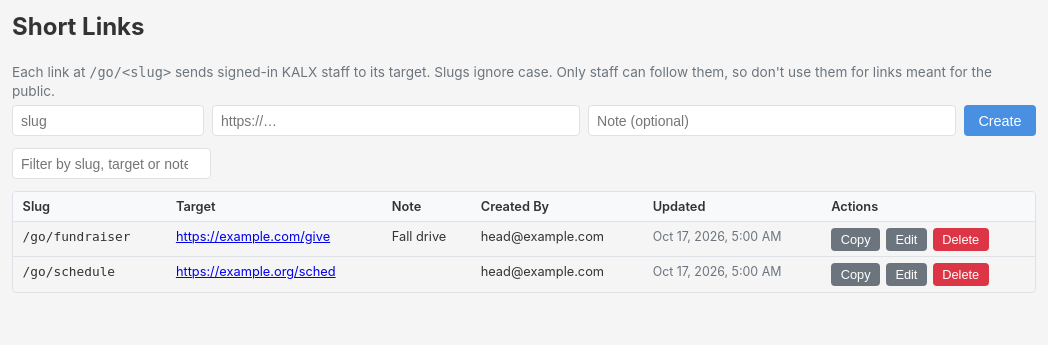
Test case: ShortLinksSection › creates a link and adds it in slug order
Type "Party" into the field labelled "slug".
click(108, 121); type("Party")  # box [12,106,204,136]
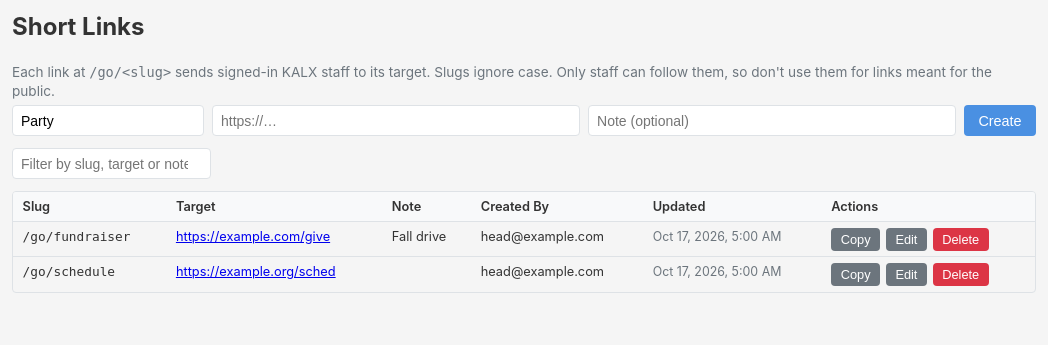
Type "https://example.net/" into the field named "Target URL".
click(396, 121); type("https://example.net/")  # box [212,106,580,136]
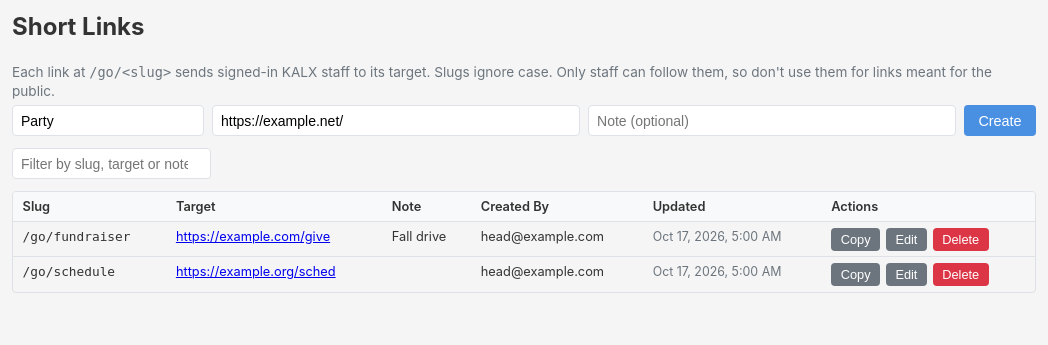
Click the button "Create".
click(1000, 121)  # box [964,106,1036,136]
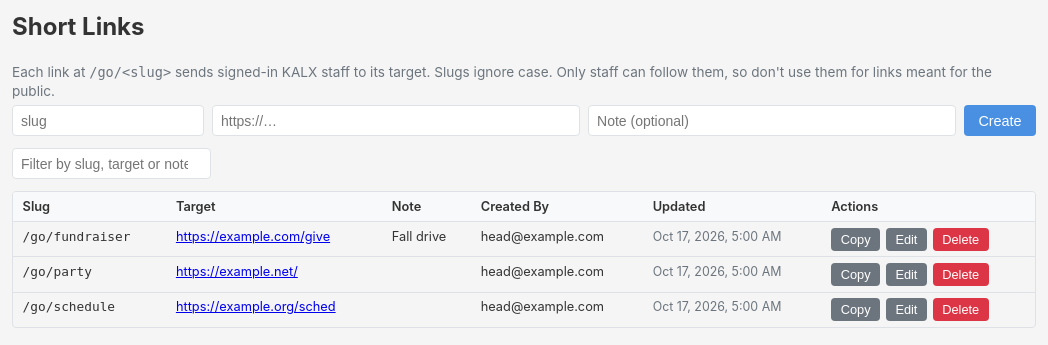
Expected: the text "/go/party" is shown, [23,264,92,279]
Expected: the elements "/go/" read "/go/fundraiser", "/go/party", "/go/schedule", in this order, [23,229,130,244]; [23,264,92,279]; [23,299,115,314]
Expected: the field labelled "slug" is empty, [12,106,204,136]
